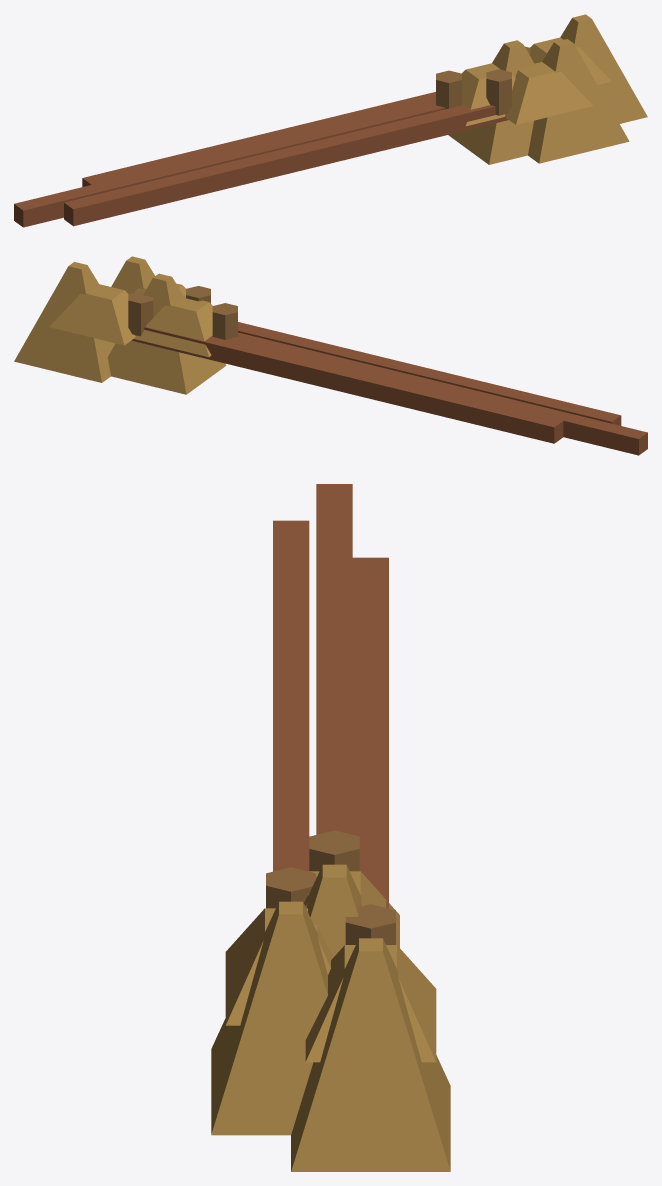
Rendered from broom_bundle.obj.
3 views of the same model, one above another, from view 1: azimuth 30°, elevation 25°; view 2: azimuth 150°, elevation 25°; view 3: azimuth 270°, elevation 25° (orthographic). The views are drawn at different scales.
Size of the model in its own units: 1.91 by 0.28 by 0.33.
